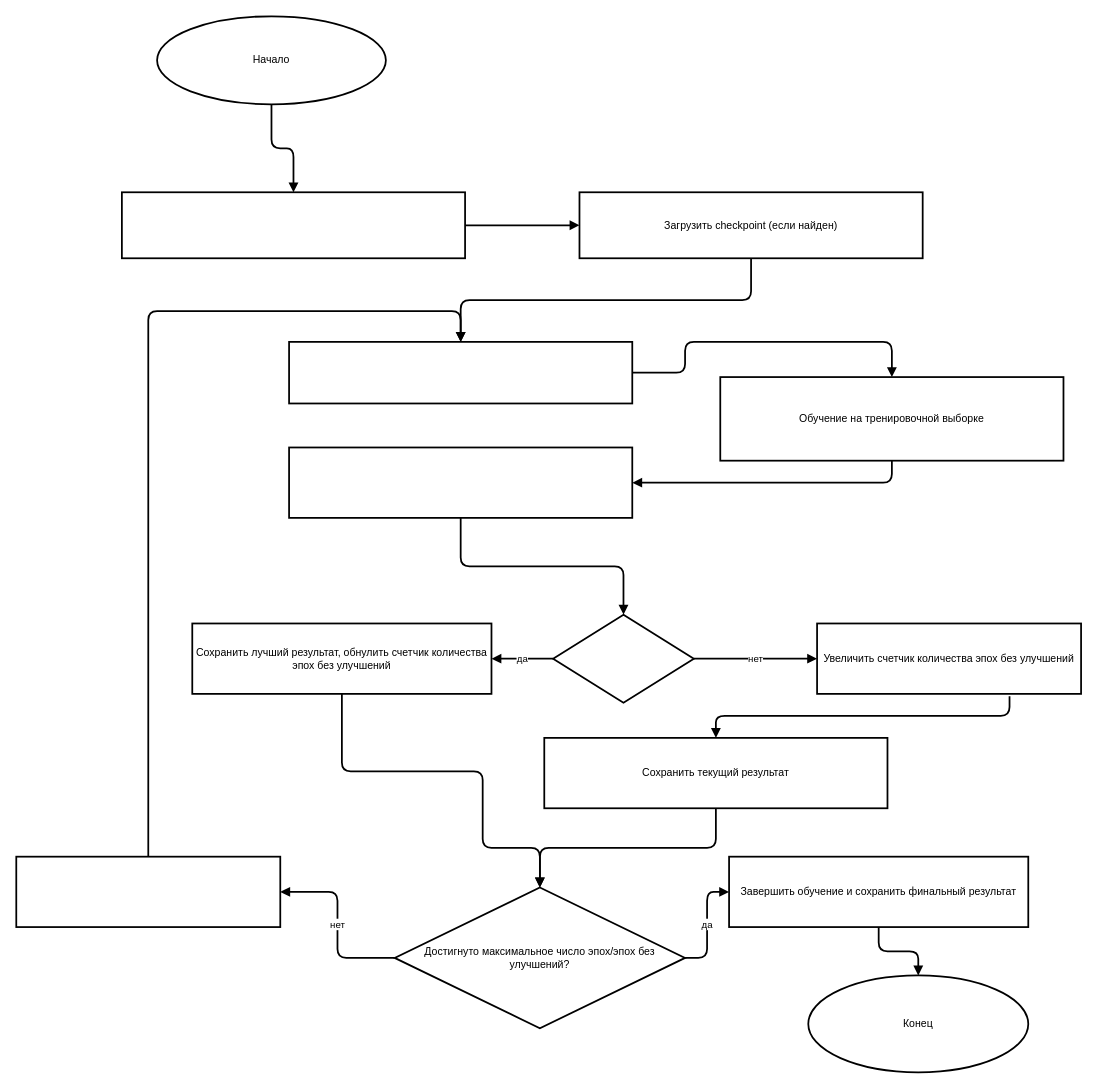
Image size: 1096x1088. Some labels were removed from this diagram. Here are the shapes that lost their labels. From the top down, the box of each, then its label:
(121, 191, 466, 259): Инициализировать модель CRNN, CTCLoss
(288, 341, 633, 404): Эпоха N
(288, 446, 633, 518): Валидация, подсчет метрик
(552, 613, 694, 703): CER улучшился?
(15, 855, 281, 928): Следующая эпоха
